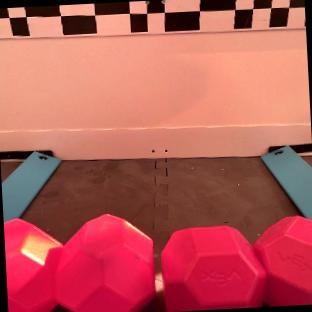Parking - B: (1, 150, 59, 220), (261, 145, 312, 217)
V5_RED: (3, 213, 153, 312), (163, 215, 312, 310)
